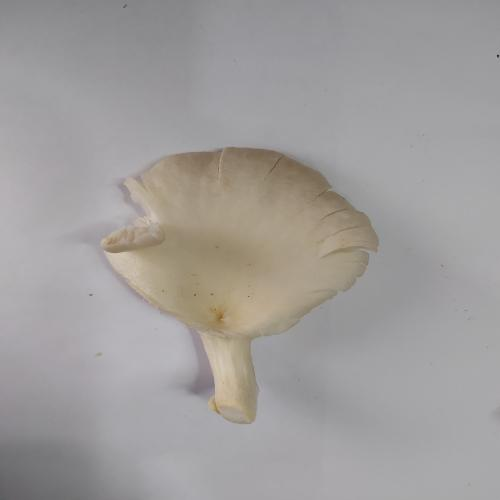Oyster Mushroom: (99, 145, 379, 425)
